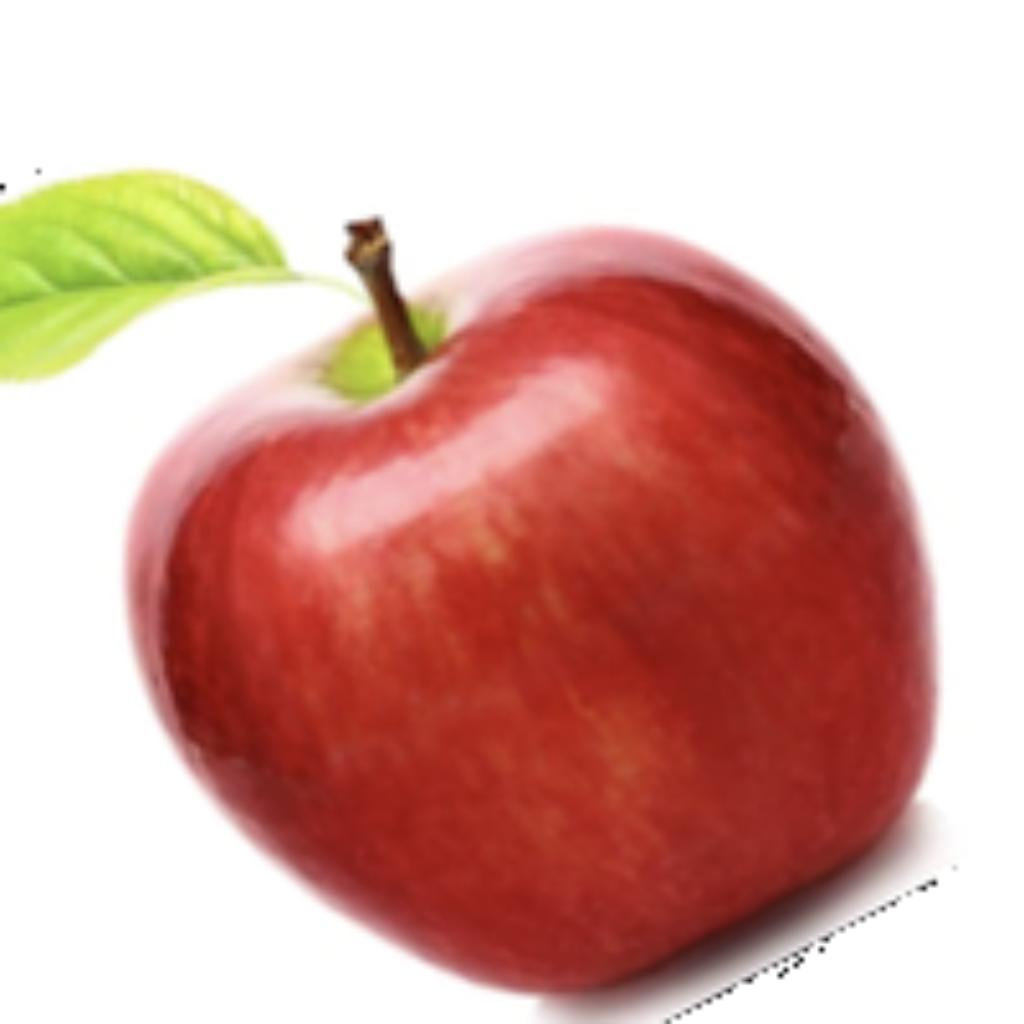apple: (113, 182, 957, 1019)
